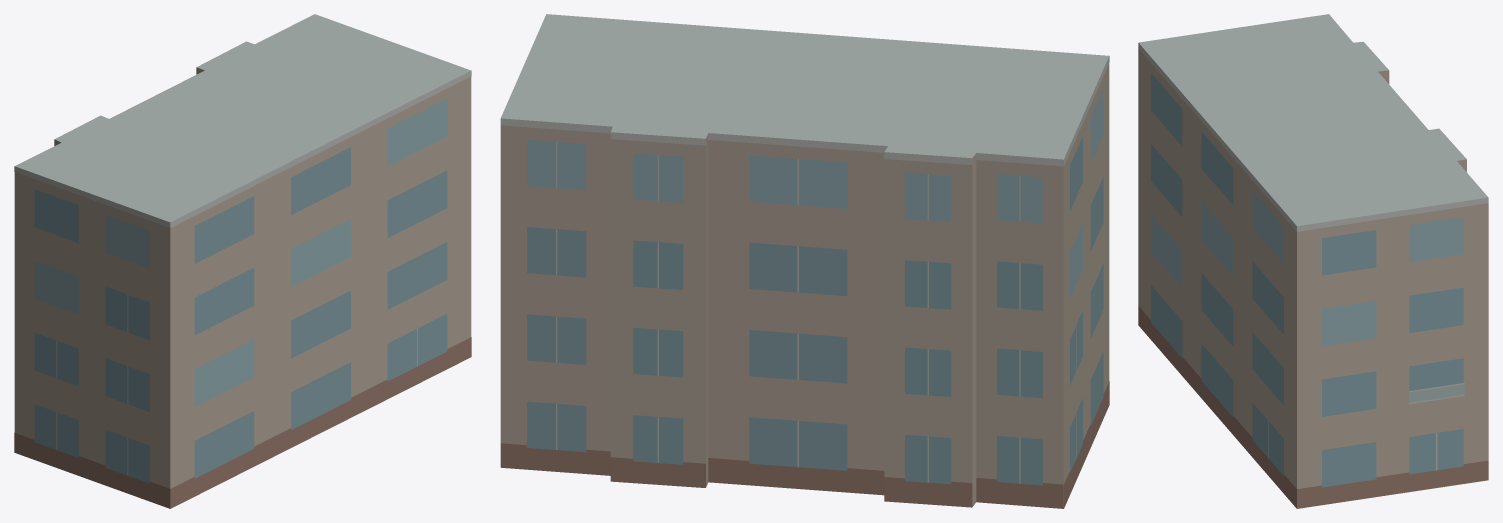
The model's file is survey-upis-32840507.glb.
3 renders of one model, left to right at view 1: azimuth 30°, elevation 25°; view 2: azimuth 150°, elevation 25°; view 3: azimuth 270°, elevation 25°, orthographic. The views are drawn at different scales.
Parts seen in each view (by area): view 1: survey-upis-32840507.tmp; view 2: survey-upis-32840507.tmp; view 3: survey-upis-32840507.tmp.
Part boxes in pixels (x1,y1,x2,y2): survey-upis-32840507.tmp: [14, 14, 471, 508]; survey-upis-32840507.tmp: [500, 14, 1109, 508]; survey-upis-32840507.tmp: [1138, 14, 1488, 508].
Size of the model in its own units: 19.89 by 12.35 by 13.87.
